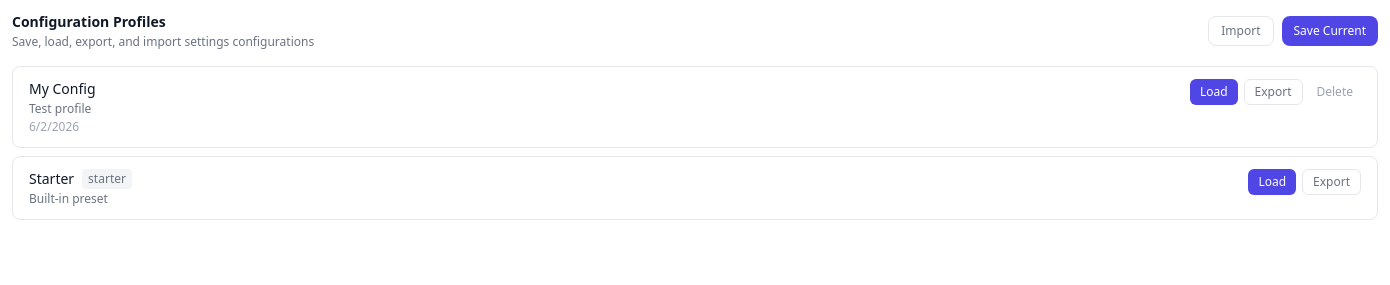
it: ConfigProfiles › shows imported profile name on successful import
Click the button "Import" at [1241, 31], box [1208,16,1274,46]
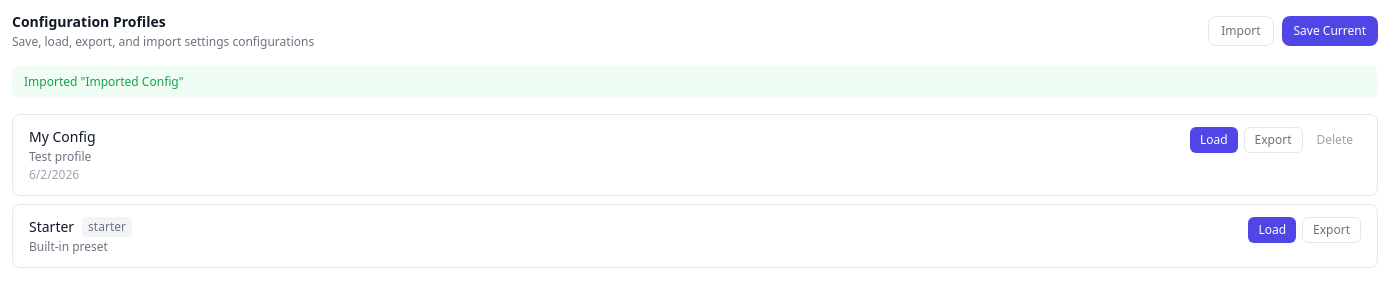
expect the text "Imported \"Imported Config\"" is shown: met, box [12,66,1378,98]
